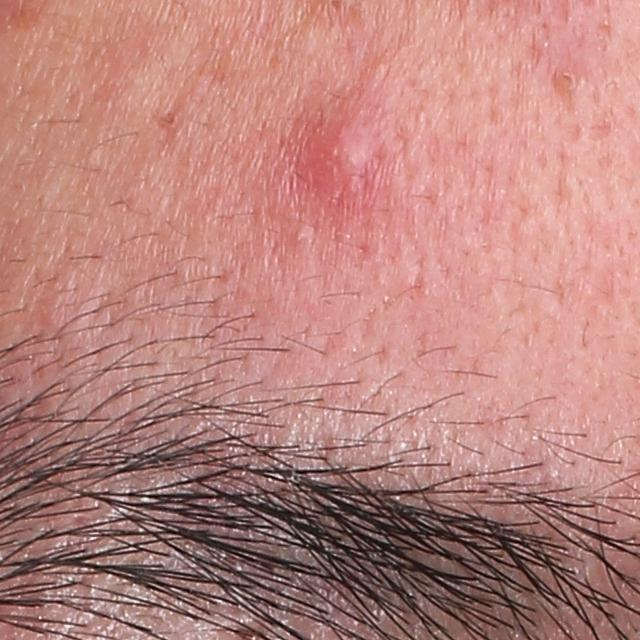comedo: (552, 68, 582, 96), (292, 221, 318, 248), (160, 109, 180, 128)
